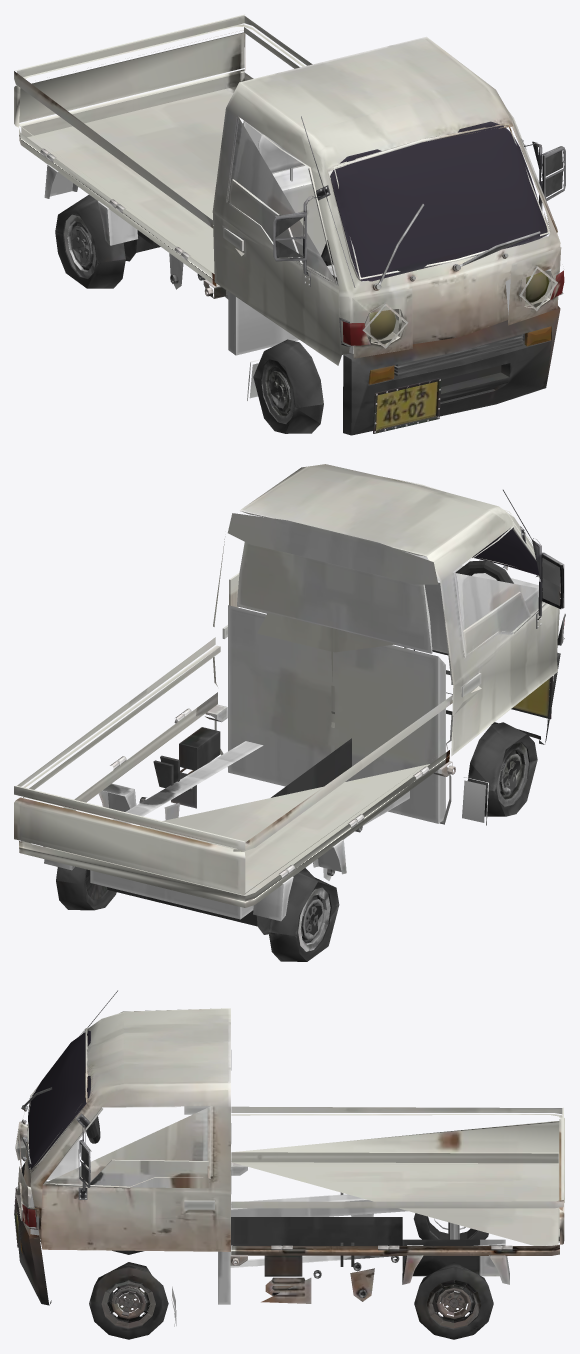
File: mini_truck.glb
The picture shows the model from 3 angles, top to bottom: view 1: azimuth 30°, elevation 25°; view 2: azimuth 150°, elevation 25°; view 3: azimuth 270°, elevation 25°; orthographic projection. The views are drawn at different scales.
Parts seen in each view (by area): view 1: Object_9, Object_3, Object_4, Object_8, Object_7, Object_5, Object_6; view 2: Object_9, Object_7, Object_8, Object_3, Object_4, Object_5, Object_6; view 3: Object_9, Object_8, Object_4, Object_6, Object_3, Object_5, Object_7.
Boxes of the visible parts, x1,y1,x2,y2 form: Object_9: [14, 14, 560, 413]; Object_3: [229, 121, 548, 281]; Object_4: [55, 195, 560, 435]; Object_8: [14, 16, 565, 433]; Object_7: [17, 15, 564, 433]; Object_5: [40, 117, 561, 403]; Object_6: [64, 116, 555, 432]; Object_9: [14, 464, 559, 941]; Object_7: [14, 480, 564, 920]; Object_8: [17, 511, 563, 934]; Object_3: [229, 527, 538, 657]; Object_4: [56, 625, 560, 961]; Object_5: [85, 528, 565, 931]; Object_6: [153, 489, 542, 951]; Object_9: [15, 1008, 564, 1318]; Object_8: [15, 1084, 564, 1325]; Object_4: [16, 1106, 493, 1339]; Object_6: [14, 990, 481, 1328]; Object_3: [28, 1030, 208, 1188]; Object_5: [15, 1105, 512, 1328]; Object_7: [14, 1028, 509, 1303].
Bounding box in the file's own units: 11.24 × 11.77 × 22.41.
3 materials, 3 textured.
